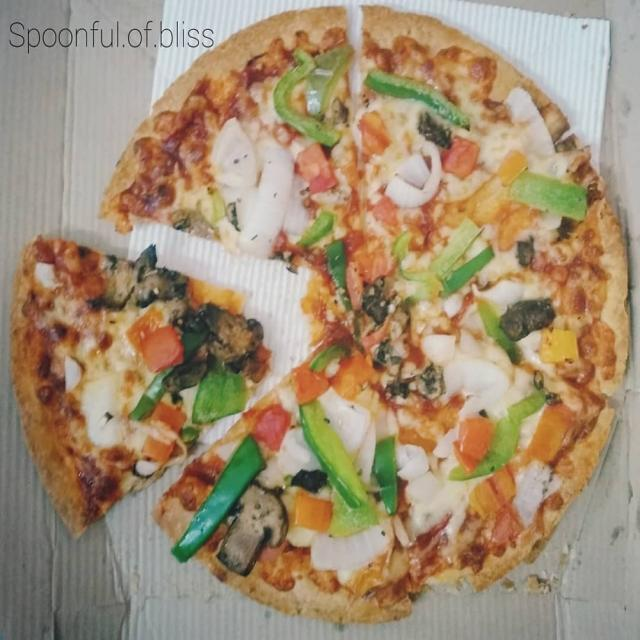mushrooms: (214, 480, 290, 578), (84, 242, 156, 314), (202, 302, 264, 359), (500, 295, 556, 341), (133, 270, 187, 308), (371, 341, 407, 377), (364, 278, 392, 324), (417, 368, 446, 399), (332, 99, 350, 124)
pizza: (8, 5, 630, 628)
